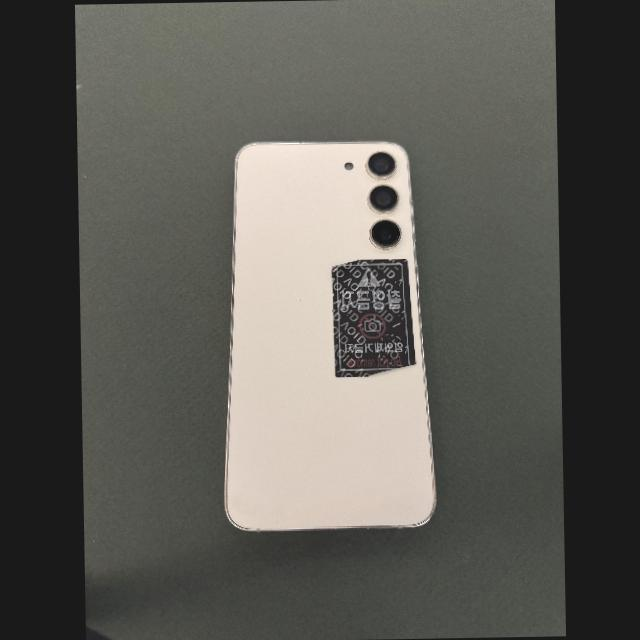lens: (366, 185, 397, 214), (370, 220, 400, 248), (367, 152, 394, 178)
phone: (225, 142, 435, 531)
sticker: (331, 259, 415, 377)
